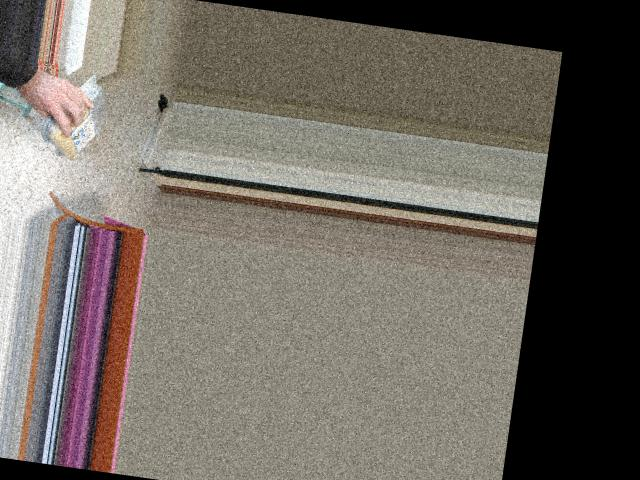cheese: (50, 75, 102, 171)
